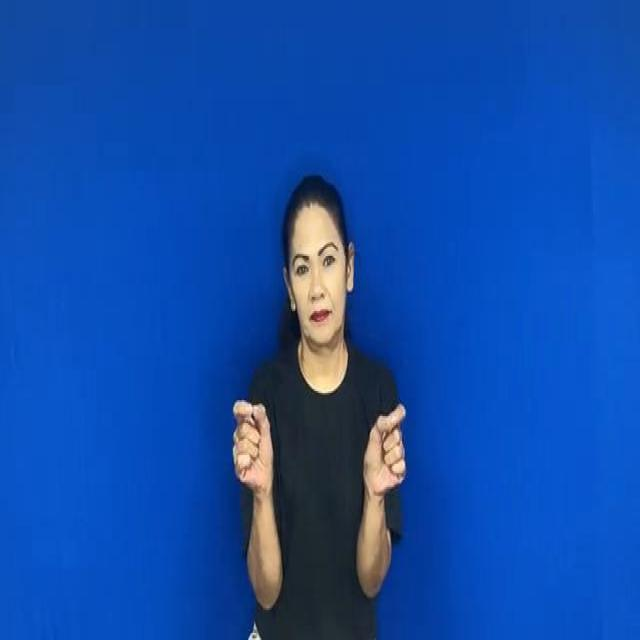crab: (223, 392, 422, 498)
